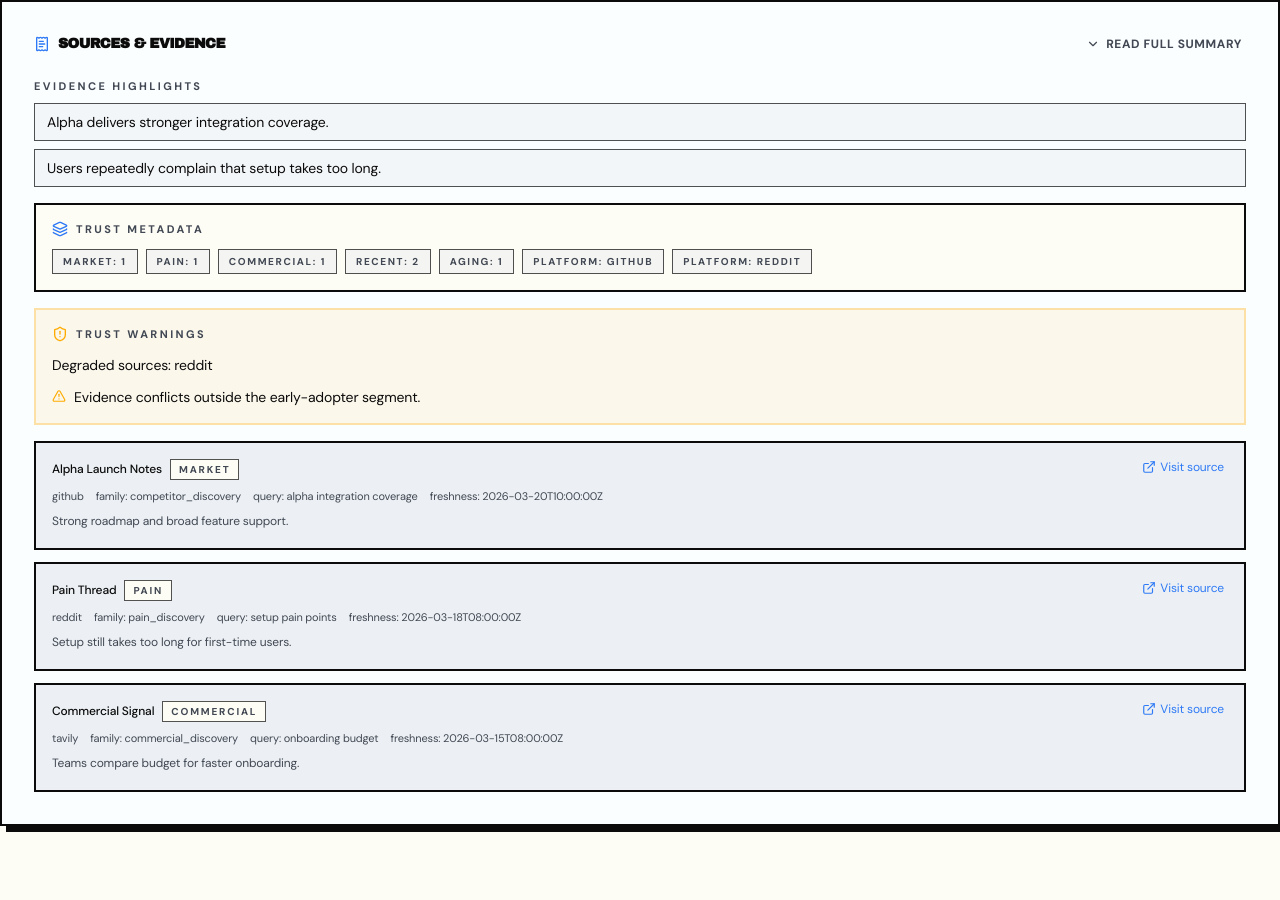
it: EvidenceCostCard › expands to show additional inspectable evidence entries
Expected: the text "Whitespace Wedge" is not shown
Expected: the text "Evidence Seven" is not shown
Click the button "Read full summary" at (1164, 44), box [1082,34,1246,54]
(page scrolled)
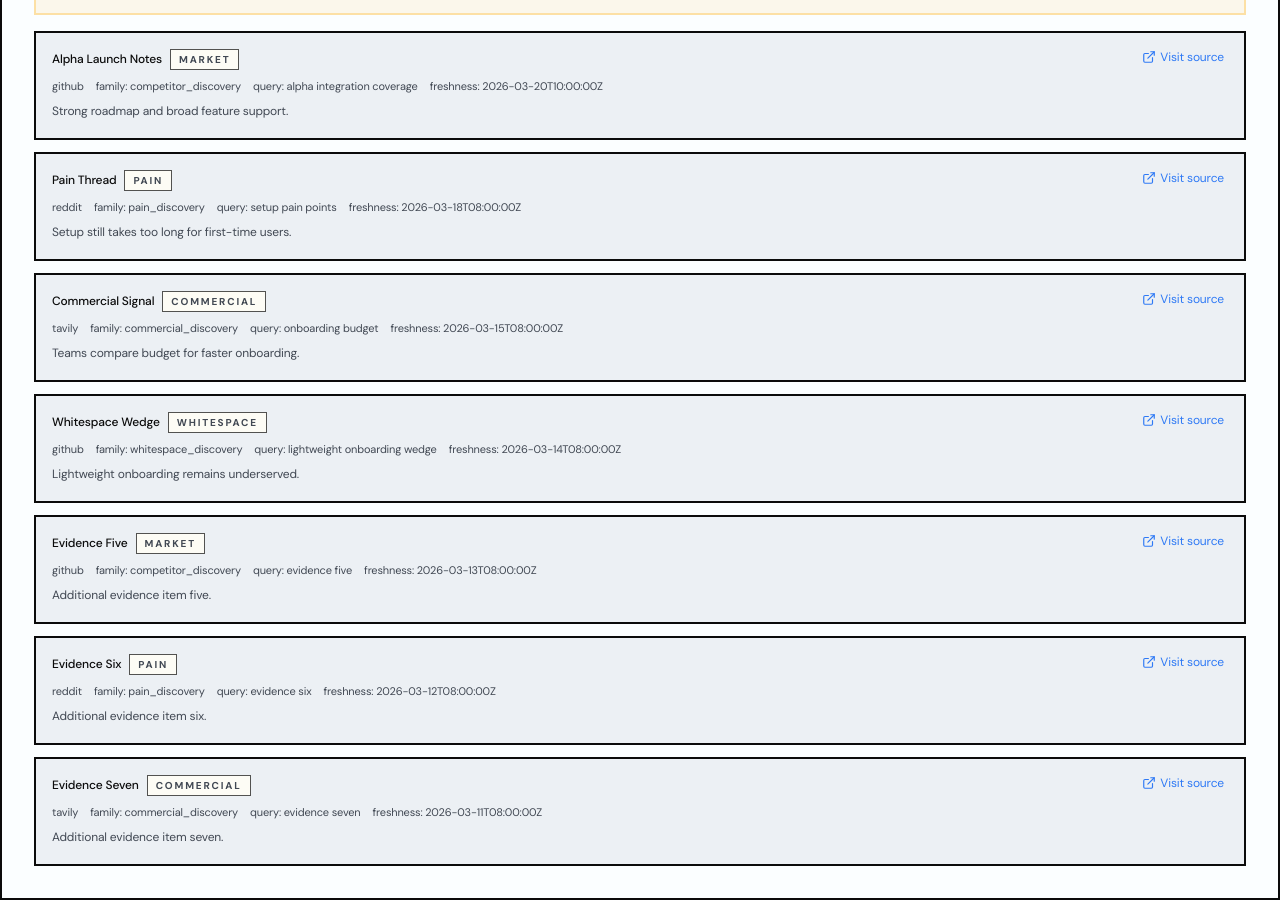
Result: the text "Whitespace Wedge" is shown at [52,414,160,430]
Result: the text "Evidence Seven" is shown at [52,777,139,793]
